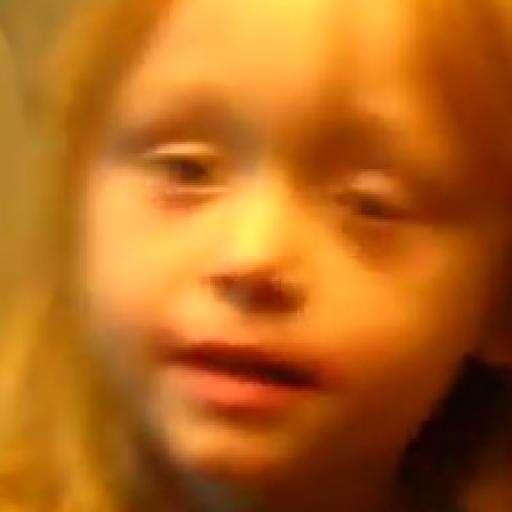Autism: (54, 2, 512, 512)
